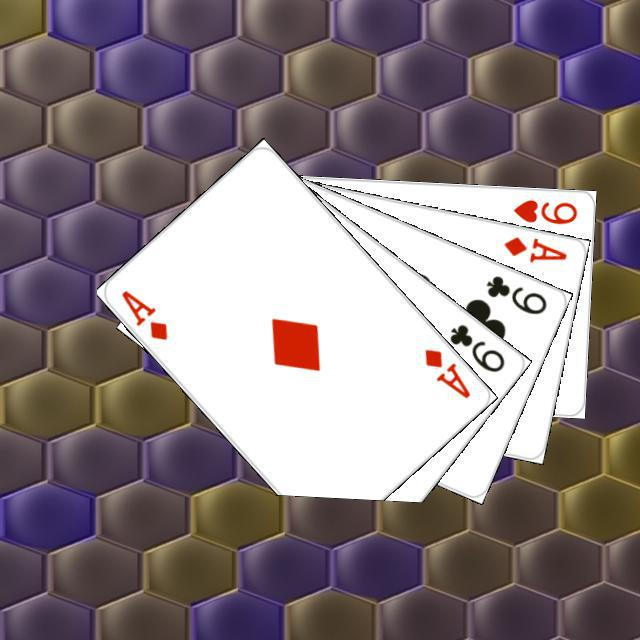9c: (444, 319, 507, 375), (481, 270, 549, 317)
9h: (508, 194, 579, 226)
Ad: (419, 344, 473, 401), (116, 285, 170, 342), (498, 231, 569, 264)
